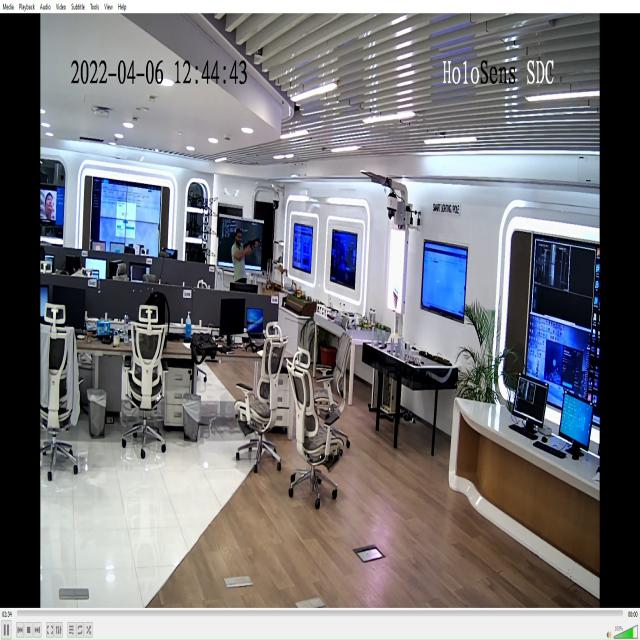long weapon: (242, 232, 266, 261)
